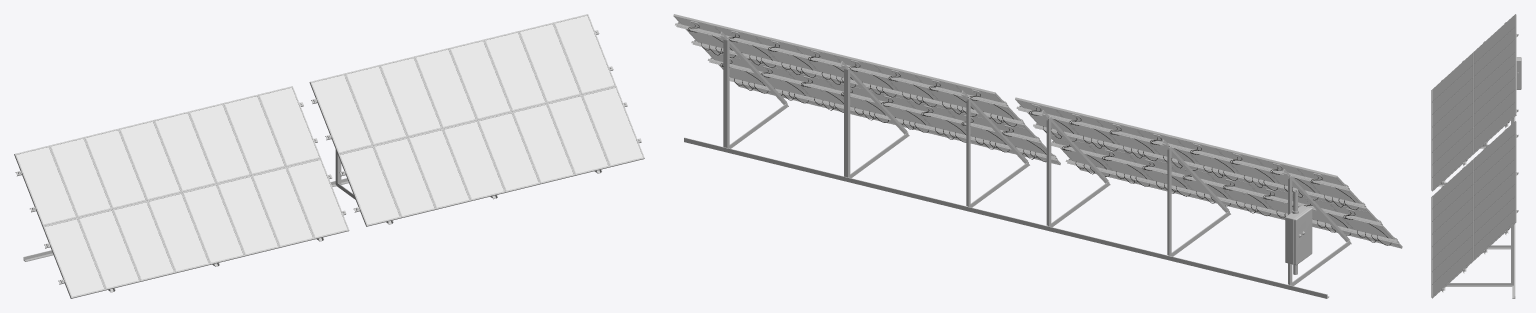
The model's file is KB3D_DMZ_SolarPanels_A.fbx.
3 views of the same model, side by side, from view 1: azimuth 30°, elevation 25°; view 2: azimuth 150°, elevation 25°; view 3: azimuth 270°, elevation 25° (orthographic). The views are drawn at different scales.
Parts seen in each view (by area): view 1: KB3D_DMZ_SolarPanels_A_Main; view 2: KB3D_DMZ_SolarPanels_A_Main; view 3: KB3D_DMZ_SolarPanels_A_Main.
Part boxes in pixels (x1,y1,x2,y2): KB3D_DMZ_SolarPanels_A_Main: [14, 14, 644, 298]; KB3D_DMZ_SolarPanels_A_Main: [673, 14, 1402, 298]; KB3D_DMZ_SolarPanels_A_Main: [1431, 14, 1521, 298].
Size of the model in its own units: 837 by 150 by 151.
